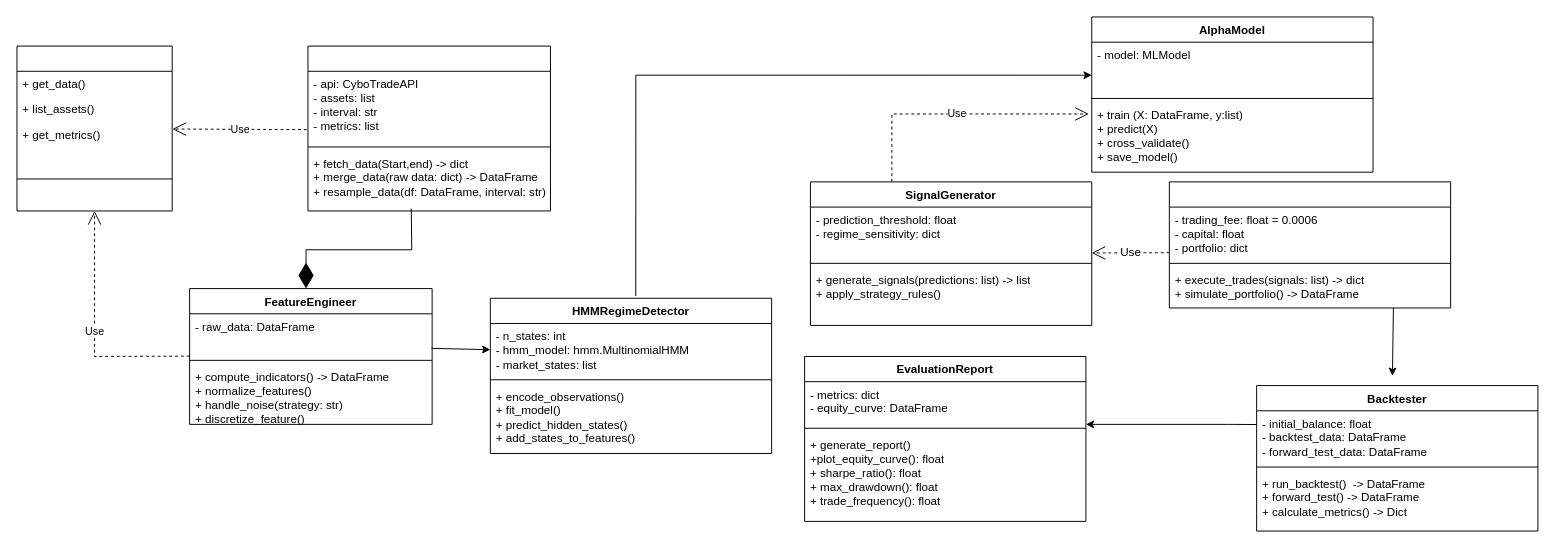
This 1555x551 diagram has some shape labels left out. The shapes that lost their labels are listed below. From the top down, each one's box as (x1, y1, x2, y2) in pixels, then its label:
(16, 45, 172, 211): CyboTradeAPI
(307, 45, 550, 211): DataCollector
(1168, 181, 1451, 308): TradeExecutor
